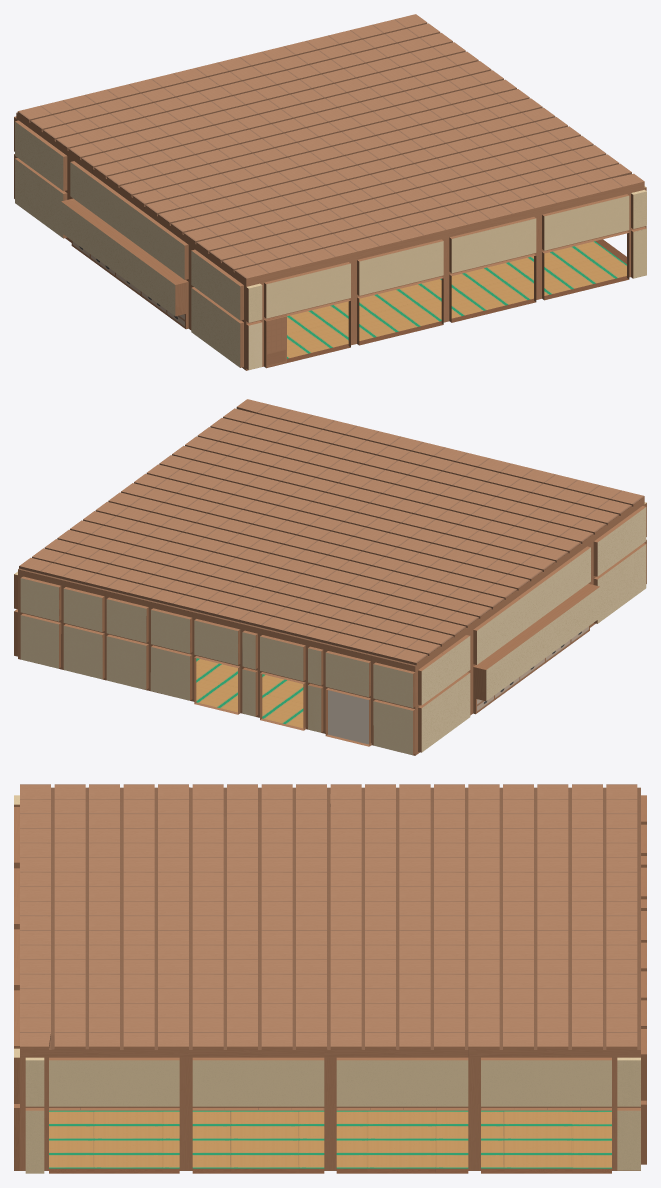
The model's file is map.fbx.
3 views of the same model, one above another, from view 1: azimuth 30°, elevation 25°; view 2: azimuth 150°, elevation 25°; view 3: azimuth 270°, elevation 25° (orthographic). The views are drawn at different scales.
Parts seen in each view (by area): view 1: Map_frameWork, syouji1; view 2: Map_frameWork, husuma2, husuma1; view 3: Map_frameWork.
Part boxes in pixels (left/top/right/bottom): Map_frameWork: left=14, top=14, right=646, bottom=370; syouji1: left=265, top=315, right=286, bottom=367; Map_frameWork: left=14, top=399, right=646, bottom=755; husuma2: left=328, top=690, right=349, bottom=739; husuma1: left=349, top=695, right=371, bottom=744; Map_frameWork: left=14, top=784, right=646, bottom=1173.
Bounding box in the file's own units: 1668 × 354 × 1631.
